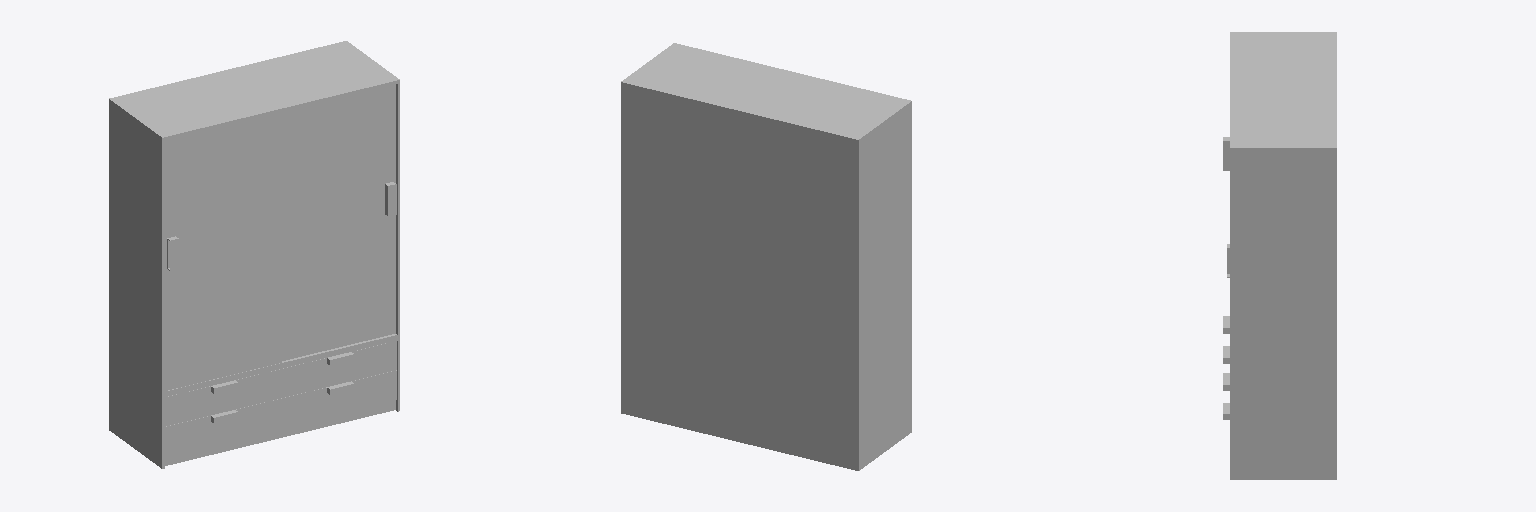
Rendered from wardrobe_OBJ.obj.
The picture shows the model from 3 angles: view 1: azimuth 30°, elevation 25°; view 2: azimuth 150°, elevation 25°; view 3: azimuth 270°, elevation 25°; orthographic projection.
Visible parts, largest first — view 1: base01 parent, parent handle_01 door_01, parent handle_02 door_02, parent edges1, parent handle_05 drawer_02, parent handle_04 drawer_01, parent handle_06 drawer_03, parent handle_03 drawer_04; view 2: base01 parent, parent edges1; view 3: base01 parent.
Boxes of the visible parts, x1=… form: base01 parent: x1=109, y1=41, x2=396, y2=468; parent handle_01 door_01: x1=165, y1=112, x2=281, y2=390; parent handle_02 door_02: x1=282, y1=85, x2=395, y2=360; parent edges1: x1=109, y1=41, x2=399, y2=468; parent handle_05 drawer_02: x1=165, y1=399, x2=280, y2=455; parent handle_04 drawer_01: x1=281, y1=370, x2=396, y2=427; parent handle_06 drawer_03: x1=165, y1=369, x2=280, y2=426; parent handle_03 drawer_04: x1=281, y1=341, x2=396, y2=397; base01 parent: x1=623, y1=44, x2=911, y2=470; parent edges1: x1=621, y1=43, x2=910, y2=470; base01 parent: x1=1230, y1=33, x2=1336, y2=479.
Size of the model in its own units: 154 by 205 by 63.4.